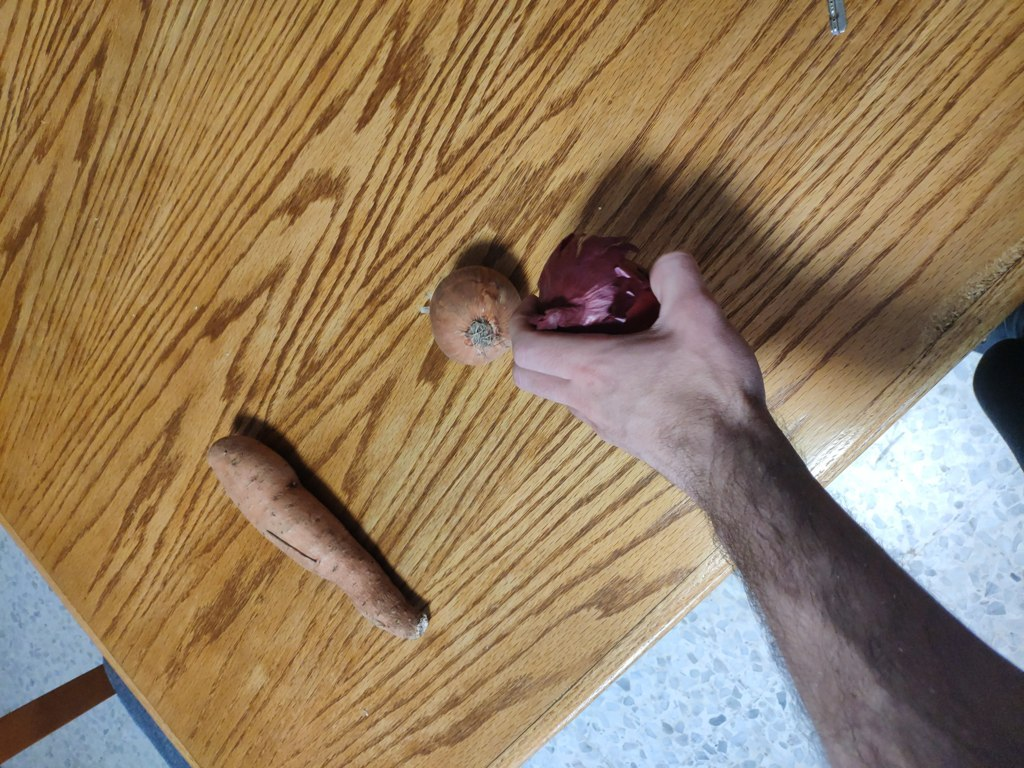Onion: (423, 262, 536, 369), (520, 266, 654, 342)
